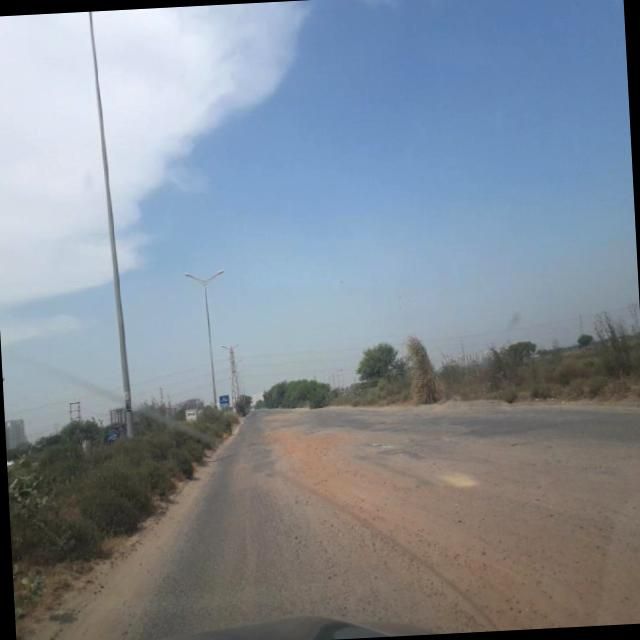crack: (231, 472, 267, 598)
pothole: (260, 406, 447, 523)
